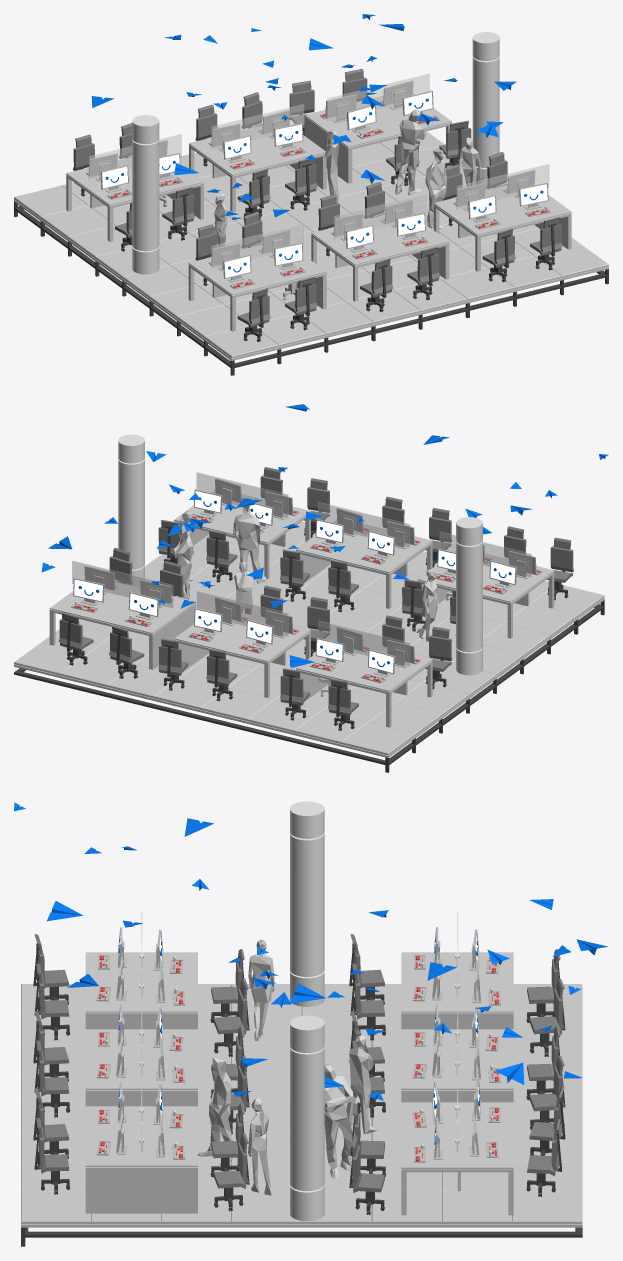
File: teamwork.glb
The picture shows the model from 3 angles, top to bottom: view 1: azimuth 30°, elevation 25°; view 2: azimuth 150°, elevation 25°; view 3: azimuth 270°, elevation 25°; orthographic projection. The views are drawn at different scales.
Visible parts, largest first — view 1: Material2 (×58); view 2: Material2 (×63); view 3: Material2 (×59).
Boxes of the visible parts, <box> form: Material2 (×58): <box>14,32,608,368</box>; Material2 (×63): <box>14,434,604,765</box>; Material2 (×59): <box>21,801,582,1237</box>.
Size of the model in its own units: 9.59 by 4.06 by 10.11.
